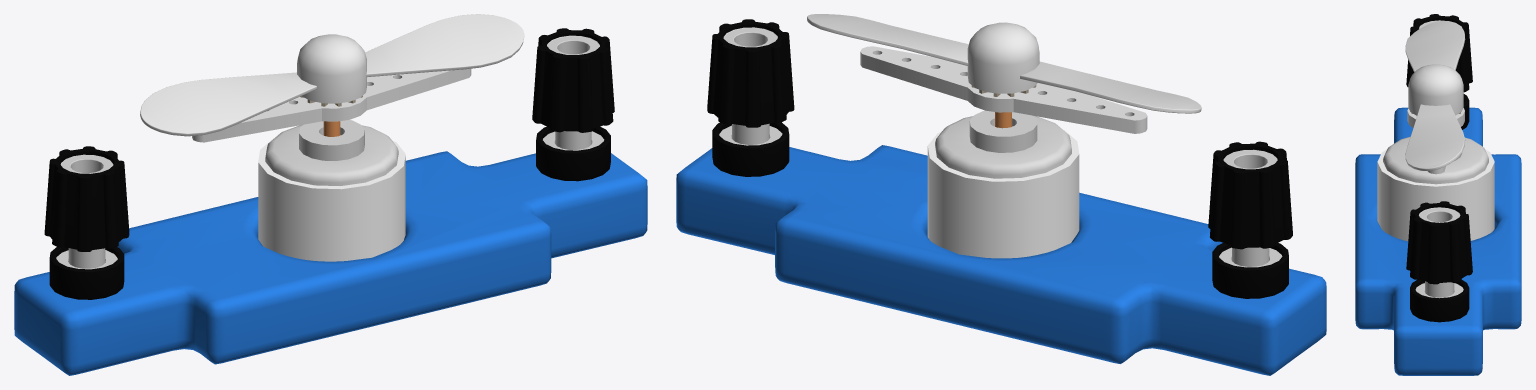
The model's file is Motor.fbx.
3 views of the same model, side by side, from view 1: azimuth 30°, elevation 25°; view 2: azimuth 150°, elevation 25°; view 3: azimuth 270°, elevation 25° (orthographic). The views are drawn at different scales.
Visible parts, largest first — view 1: Resistor.007, Fan, Cylinder.051, Cylinder.052, Cylinder.053, Cylinder.048, Servo; view 2: Resistor.007, Cylinder.051, Cylinder.052, Fan, Servo, Cylinder.053, Cylinder.048; view 3: Resistor.007, Fan, Cylinder.051, Cylinder.052, Cylinder.053, Cylinder.048, Servo.
Part boxes in pixels (x1,y1,x2,y2): Resistor.007: (14, 151, 647, 375); Fan: (140, 14, 524, 136); Cylinder.051: (44, 28, 614, 268); Cylinder.052: (258, 138, 405, 261); Cylinder.053: (265, 120, 398, 185); Cylinder.048: (49, 126, 610, 299); Servo: (192, 68, 471, 142); Resistor.007: (676, 145, 1326, 375); Cylinder.051: (707, 19, 1292, 266); Cylinder.052: (927, 130, 1079, 258); Fan: (807, 14, 1201, 113); Servo: (860, 46, 1147, 133); Cylinder.053: (935, 110, 1071, 178); Cylinder.048: (712, 122, 1288, 298); Resistor.007: (1355, 107, 1521, 375); Fan: (1405, 21, 1465, 170); Cylinder.051: (1406, 14, 1472, 297); Cylinder.052: (1377, 149, 1494, 241); Cylinder.053: (1383, 136, 1488, 184); Cylinder.048: (1410, 94, 1469, 322); Servo: (1407, 108, 1464, 174).
Bounding box in the file's own units: 236 × 96.69 × 73.78.
